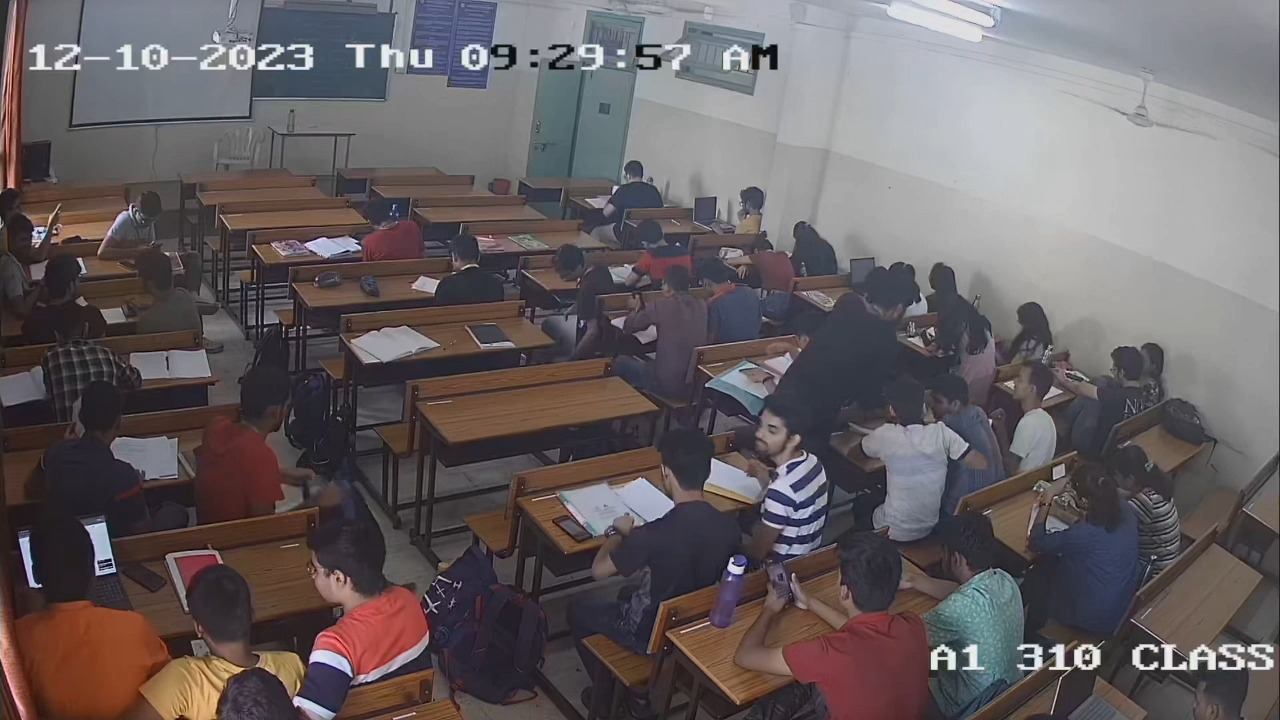cell-phones: (760, 552, 797, 609), (119, 559, 169, 594), (549, 512, 595, 544), (1050, 460, 1067, 483), (1063, 371, 1086, 383)
person: (750, 529, 935, 719), (593, 428, 740, 560), (160, 565, 309, 682), (1029, 462, 1132, 579), (1076, 345, 1146, 417)
